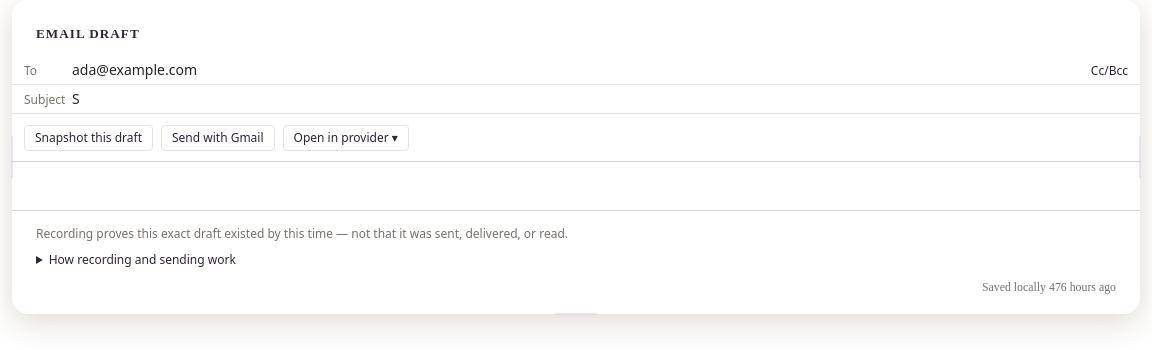
Test case: EmailComposePanel Gmail integration › routes Snapshot this draft through the supplied global snapshot action
Click the button "Snapshot this draft" at (88, 138), box [24, 125, 153, 151]
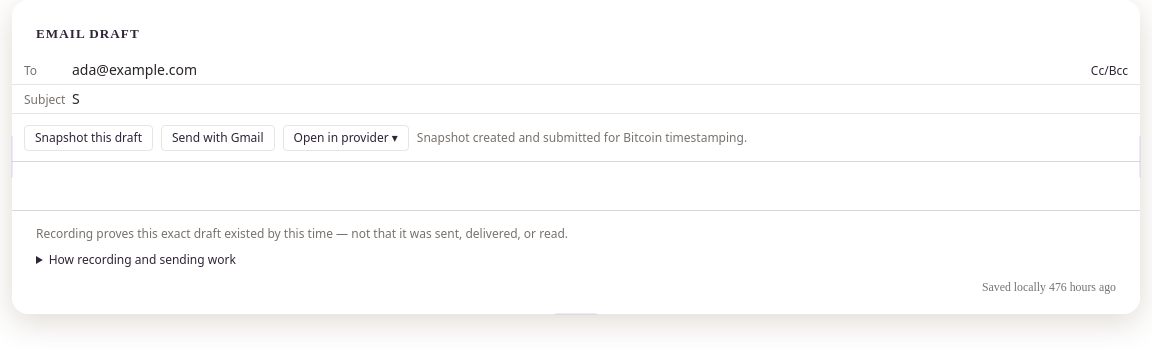
Check: the text "Snapshot created and submitted for Bitcoin timestamping." is shown, box [417, 130, 747, 146]
